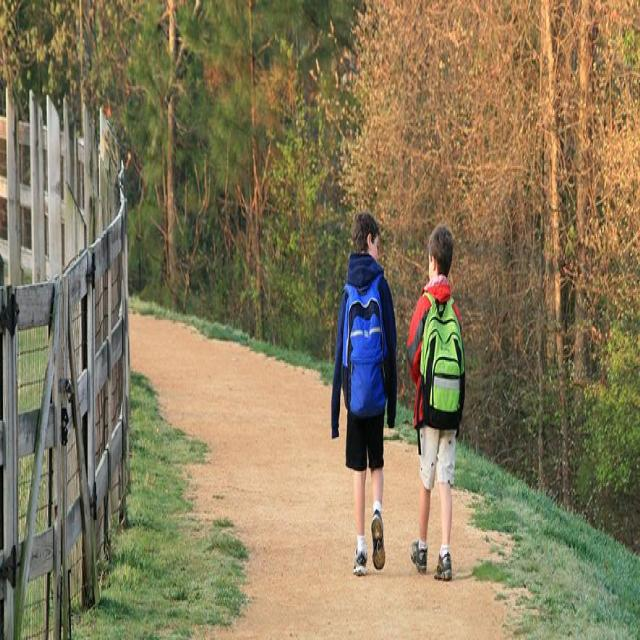Person: (332, 213, 396, 575), (406, 228, 465, 582)
